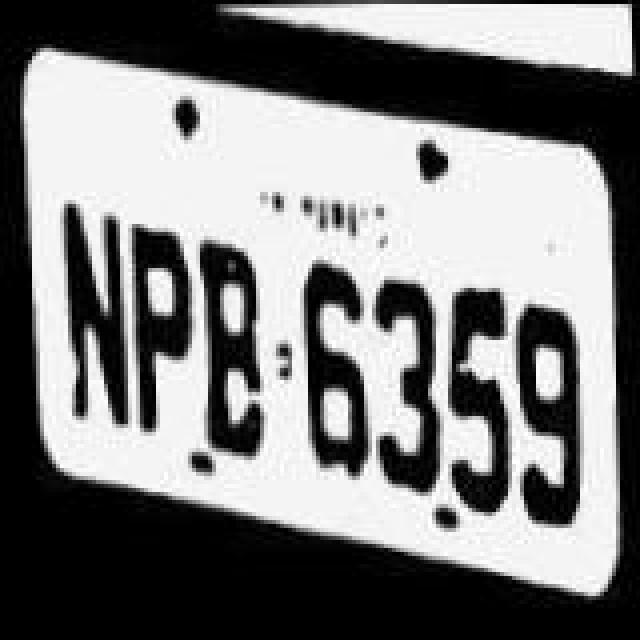3: (362, 246, 442, 506)
5: (442, 230, 514, 514)
6: (290, 246, 370, 510)
9: (510, 264, 590, 536)
B: (194, 224, 278, 464)
N: (52, 174, 132, 466)
P: (120, 214, 200, 454)
